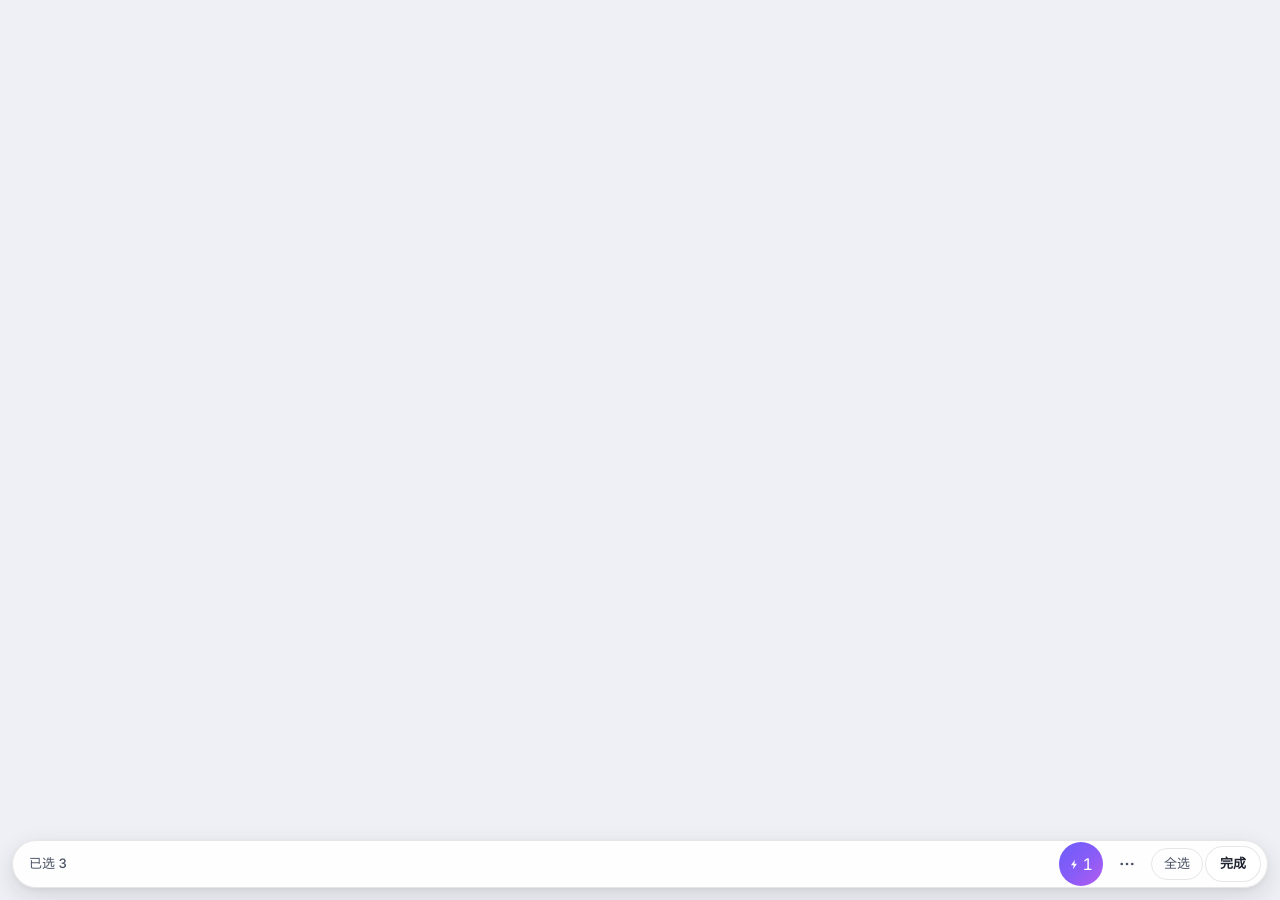
Test: MobileMultiSelectBar（PR3 S3 动作条） › 更多：开 9 项 sheet，其中删除恒置底
Click the button with test id "msb-more" at (1127, 864), box [1105,842,1149,886]
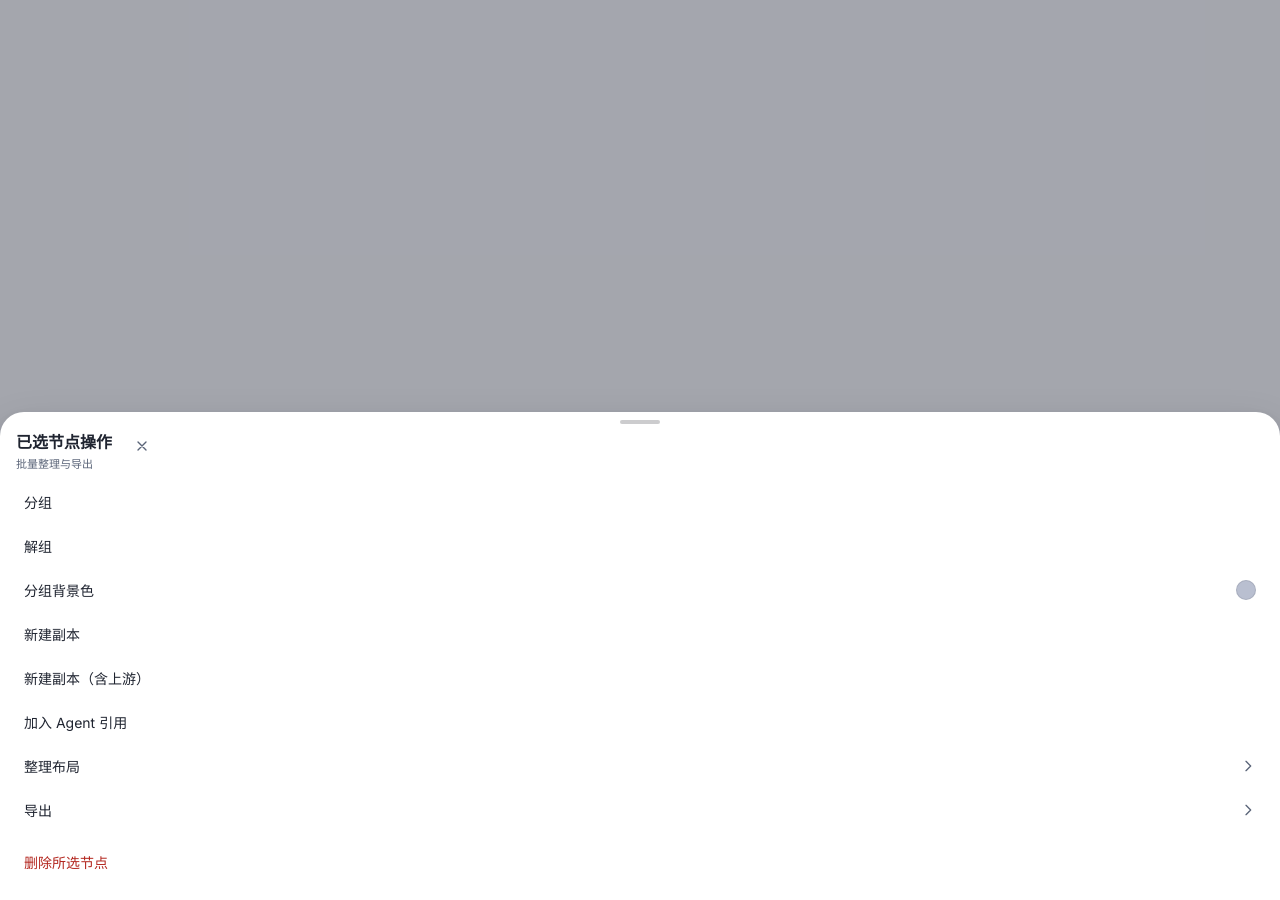
Expected: the button with class "msms-item" showing "解组" is shown, [12,524,1268,568]
